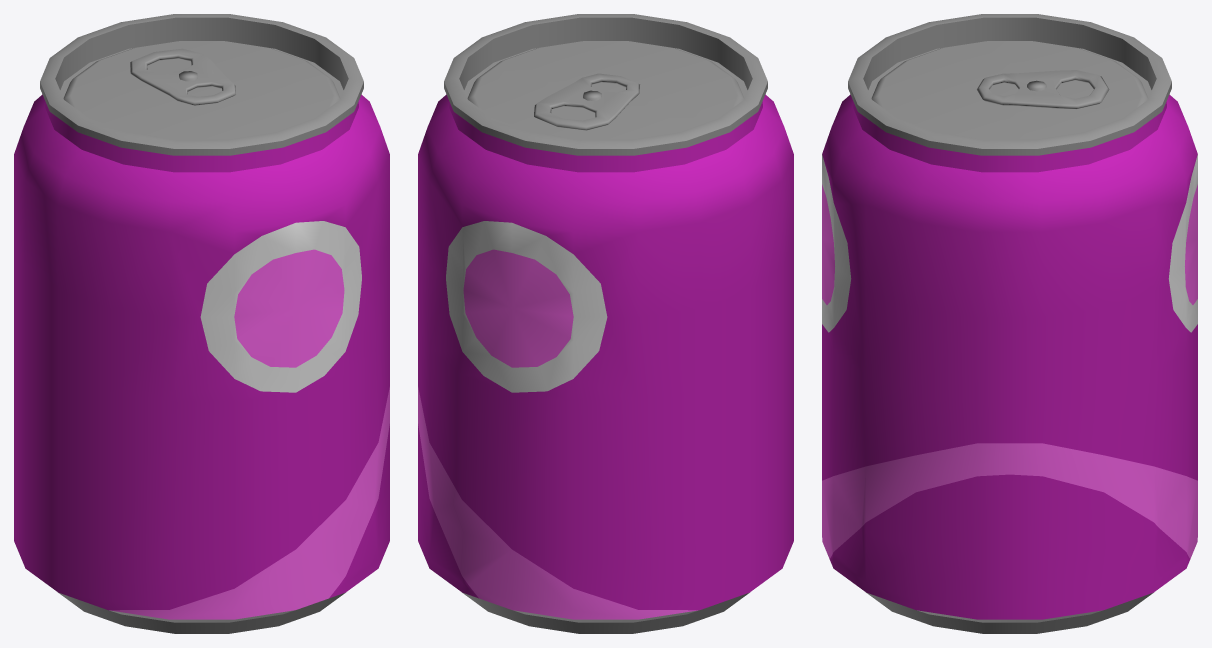
File: Coke4_anim01.fbx
The picture shows the model from 3 angles, left to right: view 1: azimuth 30°, elevation 25°; view 2: azimuth 150°, elevation 25°; view 3: azimuth 270°, elevation 25°; orthographic projection.
Parts seen in each view (by area): view 1: coke4; view 2: coke4; view 3: coke4.
Part boxes in pixels (bbox=[...]): coke4: bbox=[14, 14, 389, 633]; coke4: bbox=[418, 14, 793, 633]; coke4: bbox=[822, 14, 1197, 633].
Bounding box in the file's own units: 2.84 × 4.16 × 2.89.
